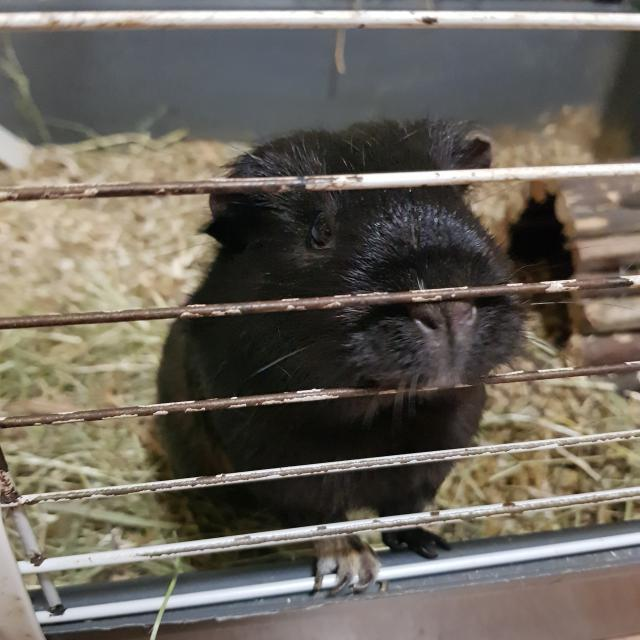guinea pig: (153, 123, 522, 600)
